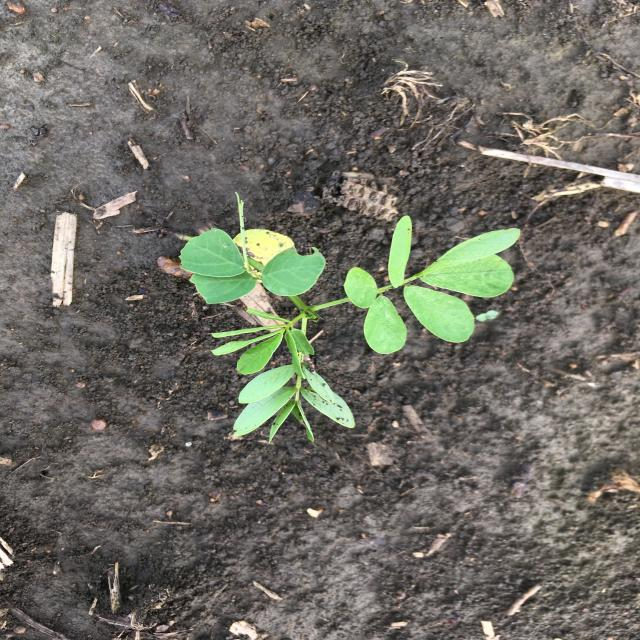Sicklepod: (176, 188, 523, 445)
